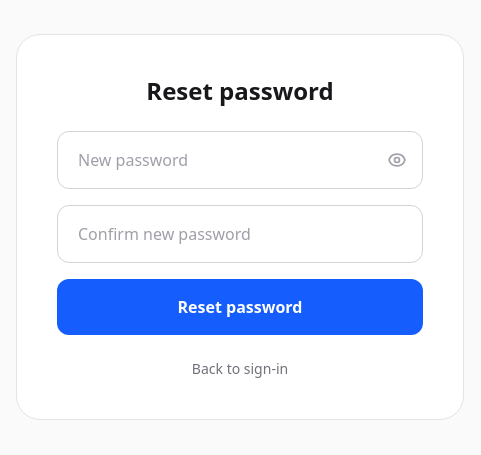
Test case: ResetPassword sem token mostra erro
This screenshot has width=481, height=455.
In the password field with placeholder "New password": (240, 160) top-left (57, 131), bottom-right (423, 189), type "novaSenha1"
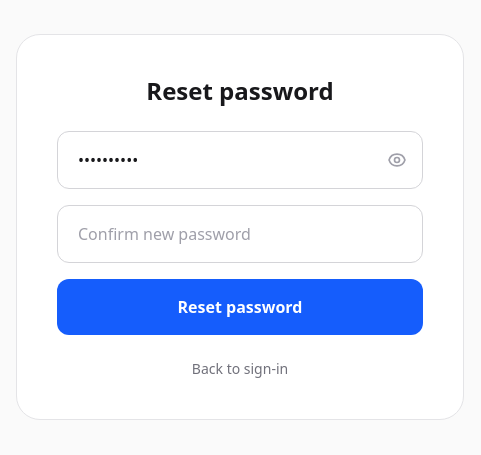
In the password field with placeholder "Confirm new password": (240, 234) top-left (57, 205), bottom-right (423, 263), type "novaSenha1"
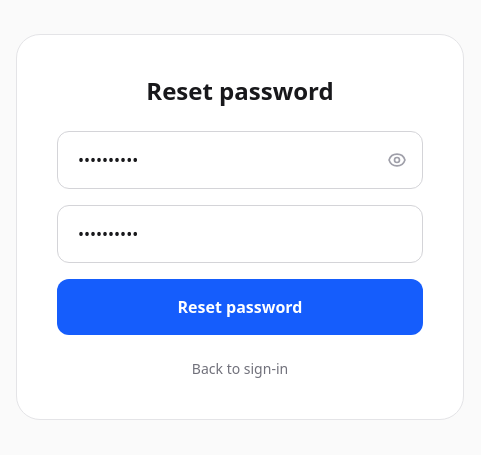
Click the button "Reset password": (240, 307) top-left (57, 279), bottom-right (423, 335)
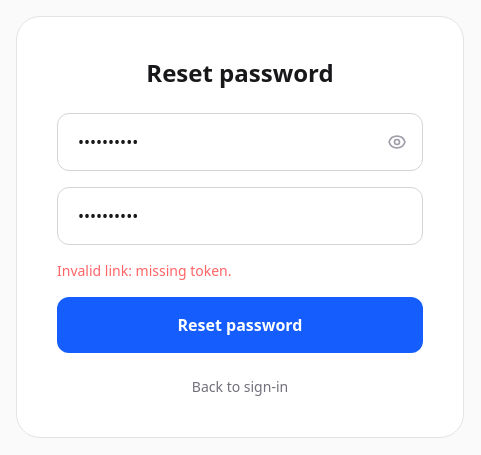
Expected: the message "Invalid link: missing token." is shown, top-left (57, 261), bottom-right (232, 280)
